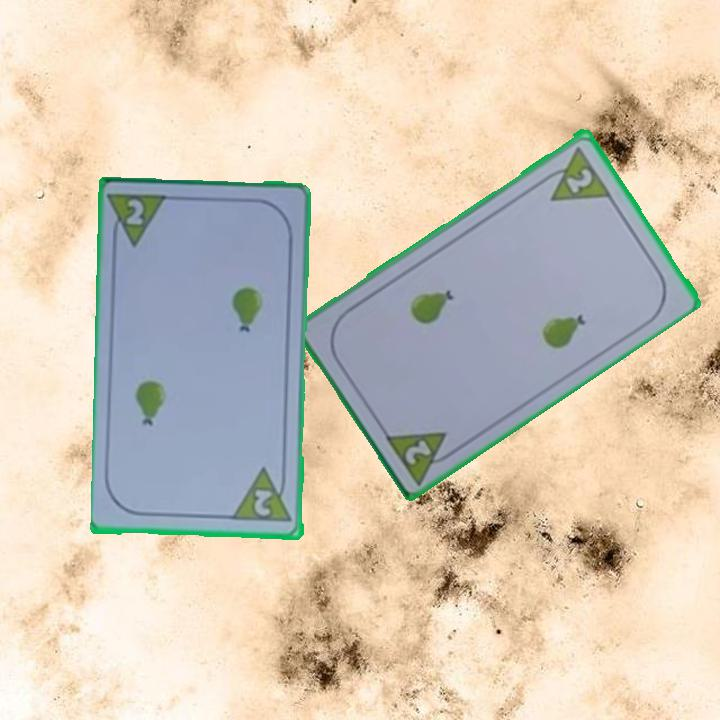2p: (536, 141, 614, 204), (381, 427, 462, 486), (107, 190, 172, 251), (231, 465, 296, 525)
